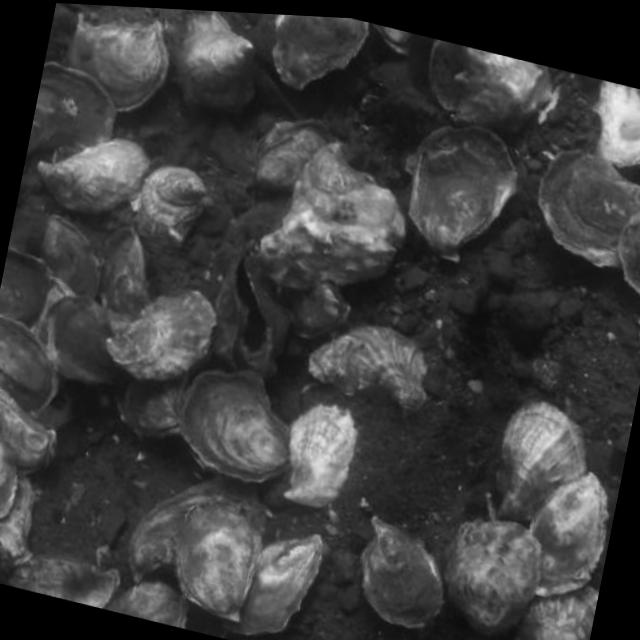Oyster-Closed: (61, 19, 171, 115), (0, 315, 60, 415)
Oyster-Indeterminate: (262, 143, 406, 290), (409, 124, 518, 264), (129, 475, 268, 584), (180, 372, 290, 483), (539, 150, 640, 268), (445, 522, 543, 636), (174, 498, 261, 623), (308, 325, 427, 416), (496, 402, 587, 521), (223, 536, 325, 635), (108, 291, 217, 380), (531, 473, 608, 596), (362, 517, 444, 628), (287, 404, 373, 508), (42, 296, 138, 388), (166, 12, 255, 108), (38, 139, 149, 214), (454, 47, 553, 129), (27, 64, 116, 154), (275, 15, 368, 90), (4, 553, 120, 607), (139, 168, 206, 253), (256, 119, 338, 188), (43, 213, 100, 297), (107, 571, 190, 628), (117, 374, 189, 438), (101, 227, 152, 317), (515, 585, 598, 640), (0, 393, 56, 473), (0, 246, 51, 325), (278, 282, 349, 337), (0, 469, 33, 566), (28, 275, 77, 340), (621, 211, 640, 298), (0, 436, 18, 520)
Oyster-Open: (214, 241, 290, 376)
